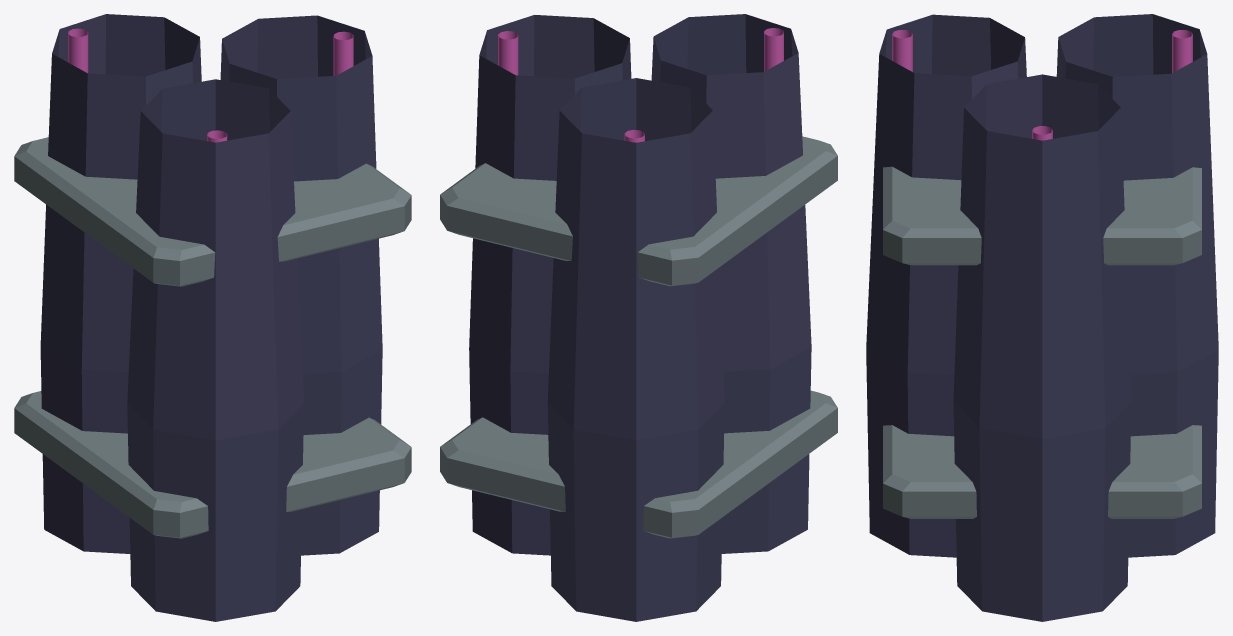
File: wreck_vespera_1.glb
The picture shows the model from 3 angles, left to right: view 1: azimuth 30°, elevation 25°; view 2: azimuth 150°, elevation 25°; view 3: azimuth 270°, elevation 25°; orthographic projection.
Visible parts, largest first — view 1: wreck_vespera_1; view 2: wreck_vespera_1; view 3: wreck_vespera_1.
Part boxes in pixels (x1,y1,x2,y2): wreck_vespera_1: (14, 14, 411, 621); wreck_vespera_1: (440, 14, 837, 621); wreck_vespera_1: (866, 14, 1218, 621).
Bounding box in the file's own units: 2.65 × 4.15 × 2.77.
